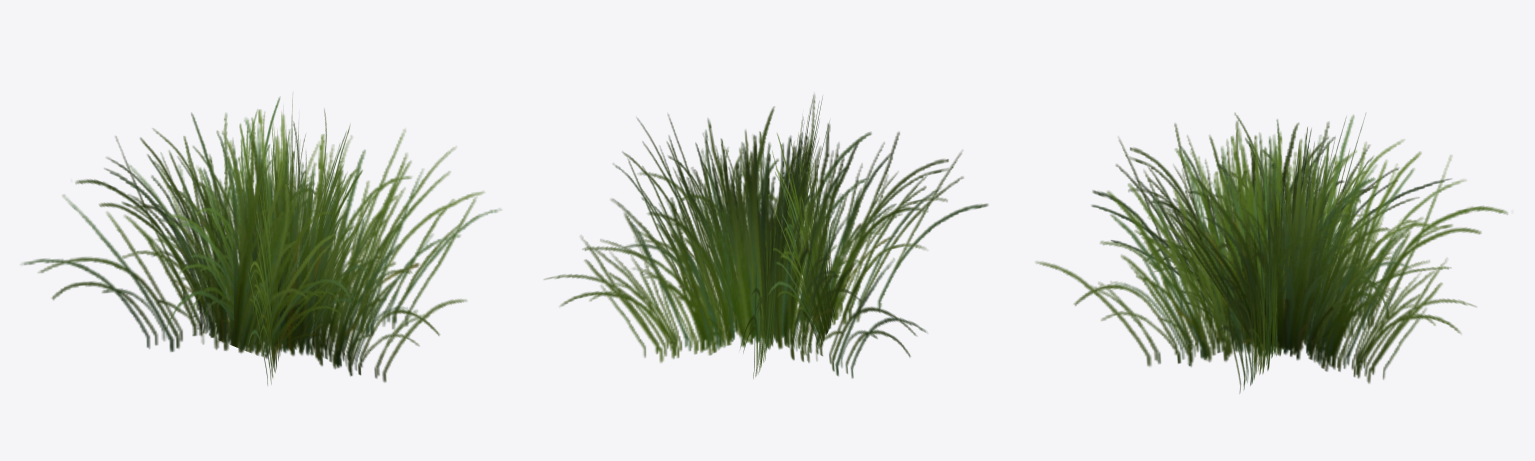
File: grasssprite.glb
3 views of the same model, side by side, from view 1: azimuth 30°, elevation 25°; view 2: azimuth 150°, elevation 25°; view 3: azimuth 270°, elevation 25° (orthographic). The views are drawn at different scales.
Visible parts, largest first — view 1: Grass medium 3_GrassAtlas_0; view 2: Grass medium 3_GrassAtlas_0; view 3: Grass medium 3_GrassAtlas_0.
Part boxes in pixels (x1,y1,x2,y2): Grass medium 3_GrassAtlas_0: (21, 97, 501, 384); Grass medium 3_GrassAtlas_0: (544, 94, 988, 378); Grass medium 3_GrassAtlas_0: (1035, 113, 1507, 393).
Size of the model in its own units: 0.3507 by 0.2099 by 0.3752.
Materials: 1 (1 with a texture image).
